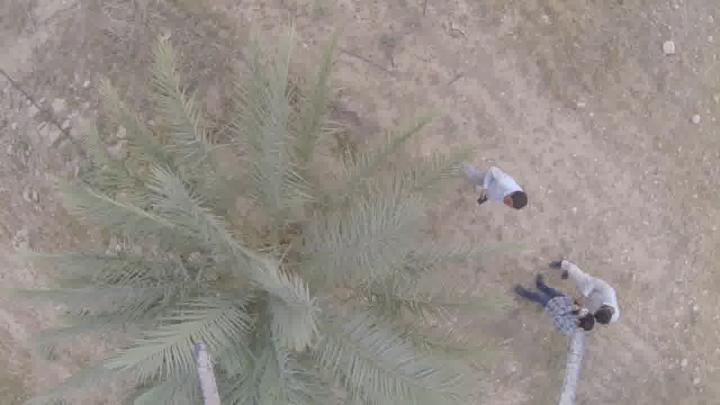Date-Palm-Crown: (146, 139, 400, 405)
